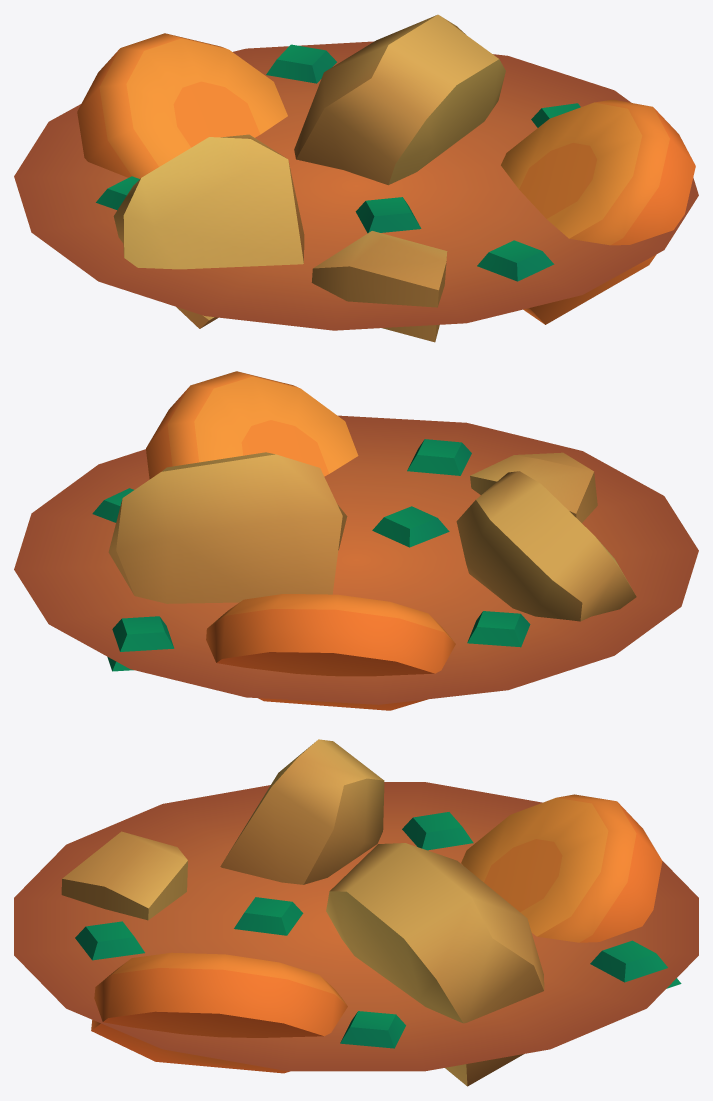
File: stew_pot.glb
The picture shows the model from 3 angles, top to bottom: view 1: azimuth 30°, elevation 25°; view 2: azimuth 150°, elevation 25°; view 3: azimuth 270°, elevation 25°; orthographic projection.
Parts seen in each view (by area): view 1: stew_pot; view 2: stew_pot; view 3: stew_pot.
Part boxes in pixels (left/top/right/bottom): stew_pot: left=14, top=14, right=698, bottom=342; stew_pot: left=14, top=371, right=698, bottom=710; stew_pot: left=14, top=739, right=698, bottom=1086.
Bounding box in the file's own units: 0.737 × 0.25 × 0.737.
Materials: 1 (1 with a texture image).
